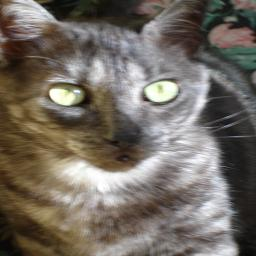catnose: (104, 132, 144, 149)
